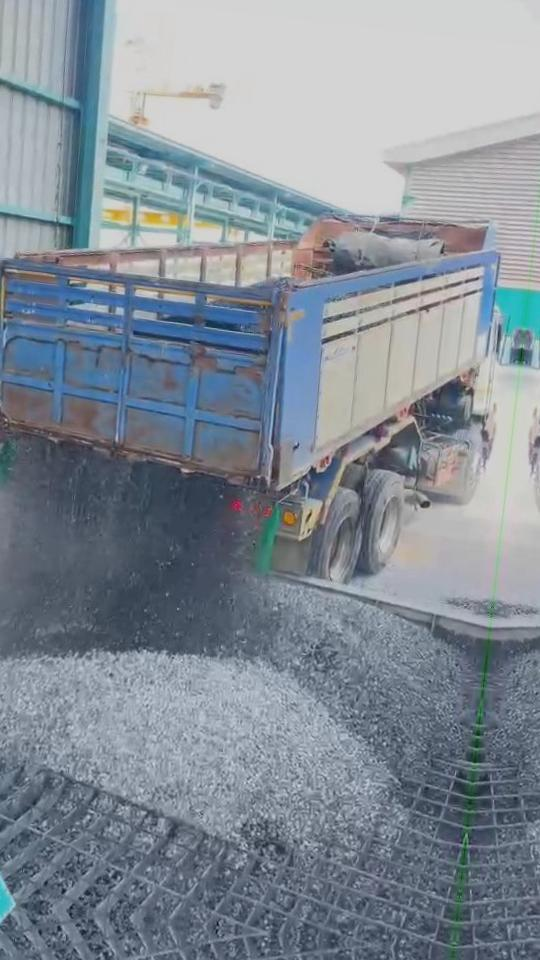gravel: (0, 651, 399, 856), (0, 437, 269, 657), (253, 579, 477, 775), (446, 597, 491, 623)
